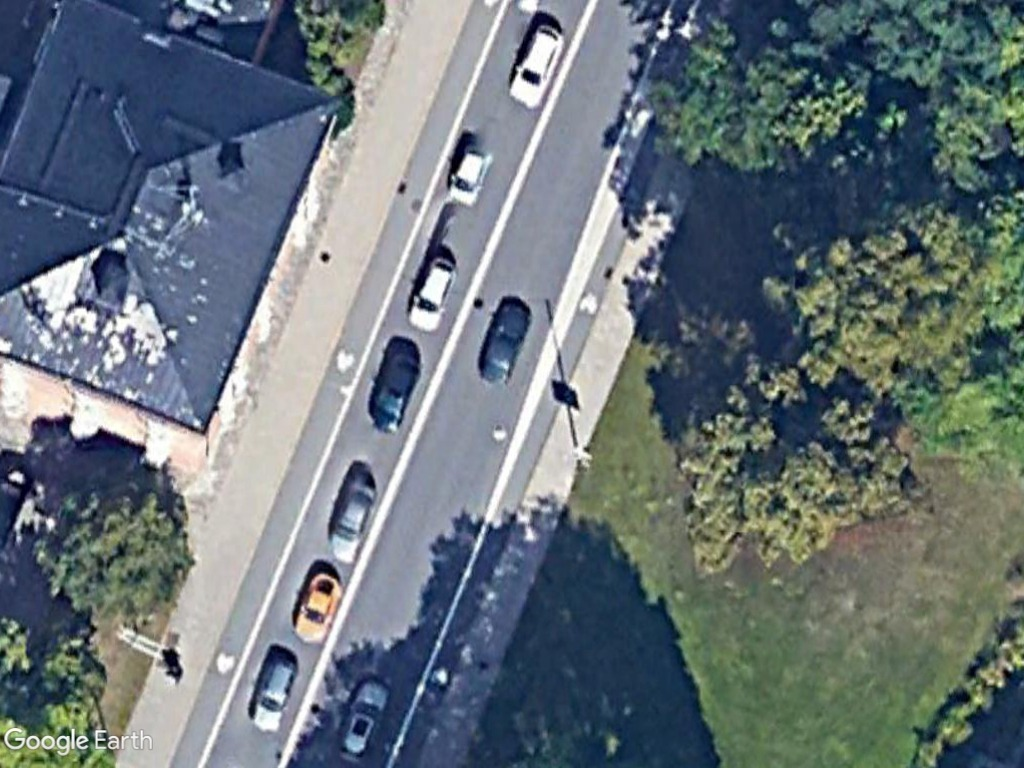car: (324, 469, 384, 570), (331, 669, 391, 768), (503, 20, 566, 114), (365, 342, 427, 435), (474, 296, 534, 391), (401, 250, 461, 335), (246, 646, 301, 736), (291, 567, 345, 647), (444, 140, 496, 212)
